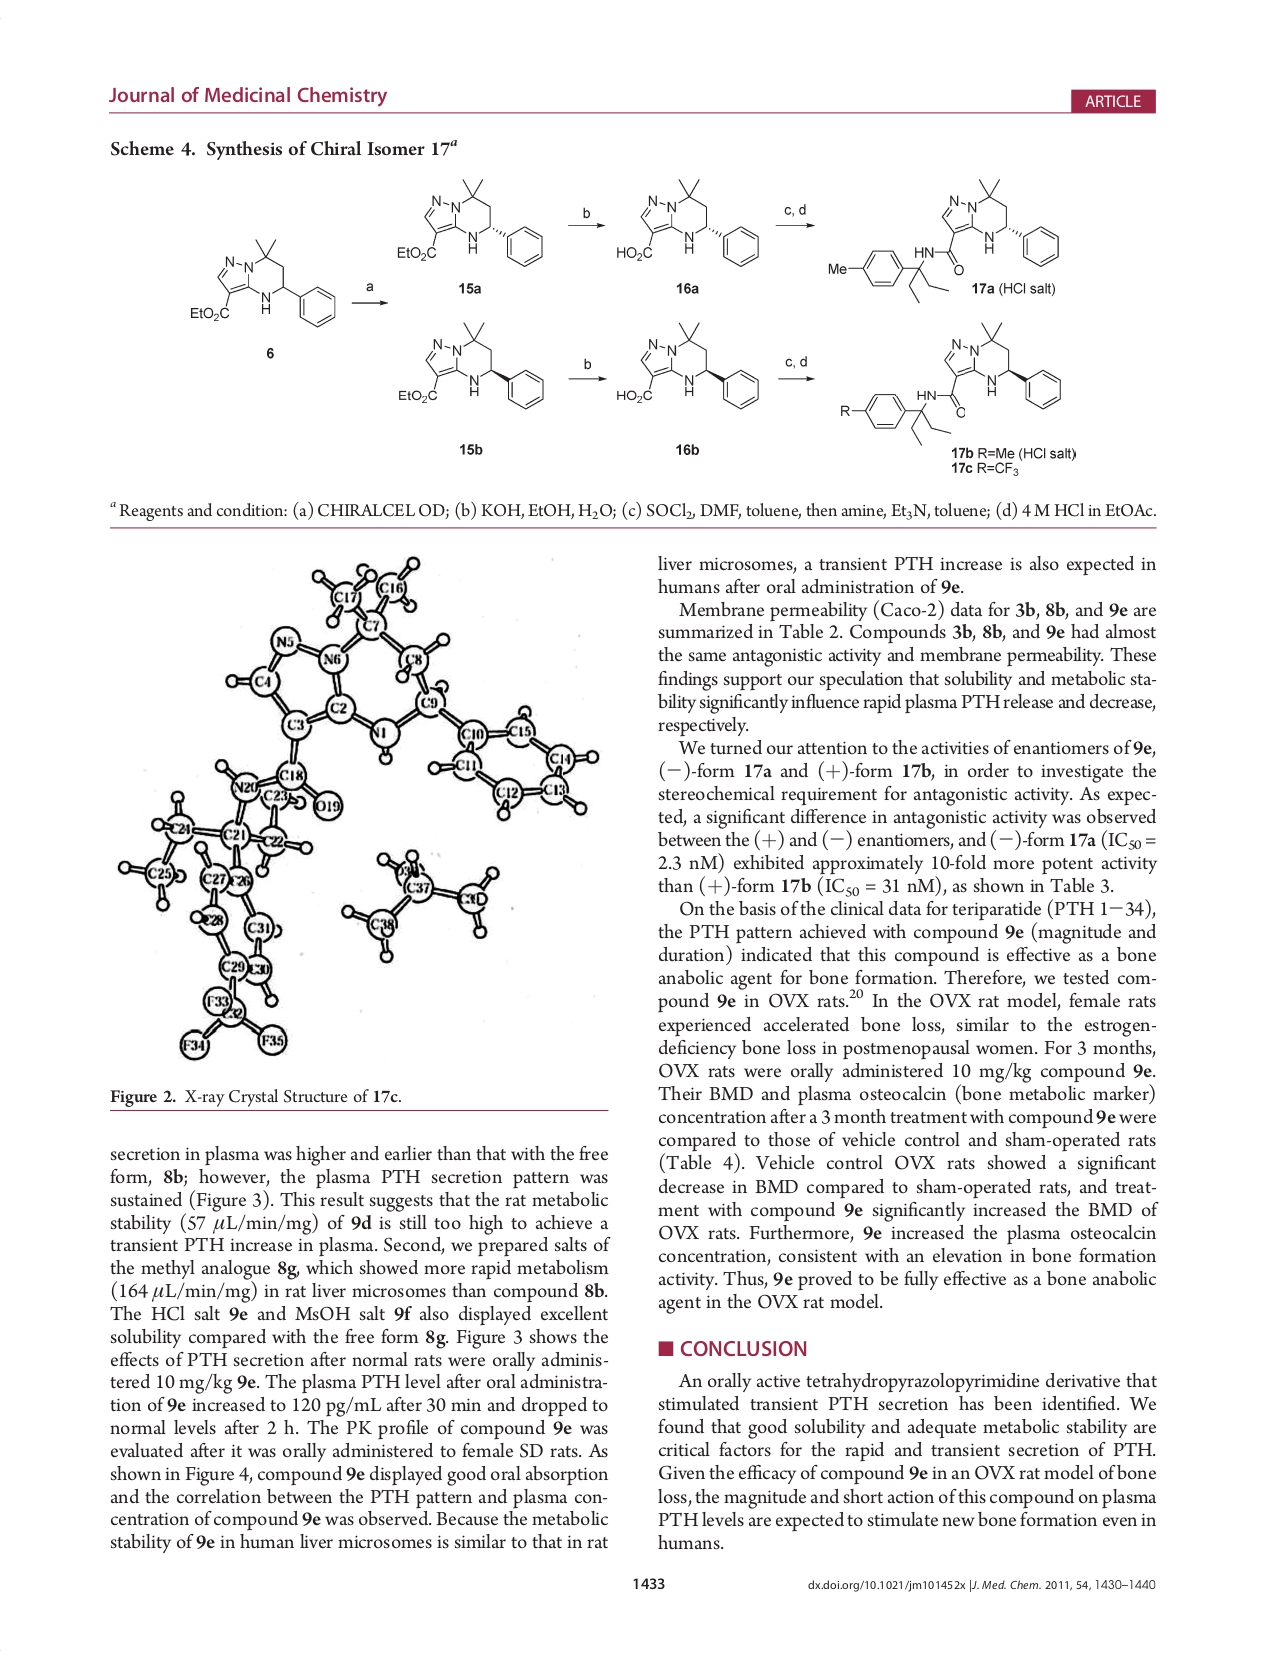exist_molecular: (824, 176, 1061, 305), (836, 319, 1065, 449), (394, 317, 547, 414), (613, 318, 762, 415), (396, 176, 547, 271), (614, 172, 762, 269), (189, 234, 338, 330)
